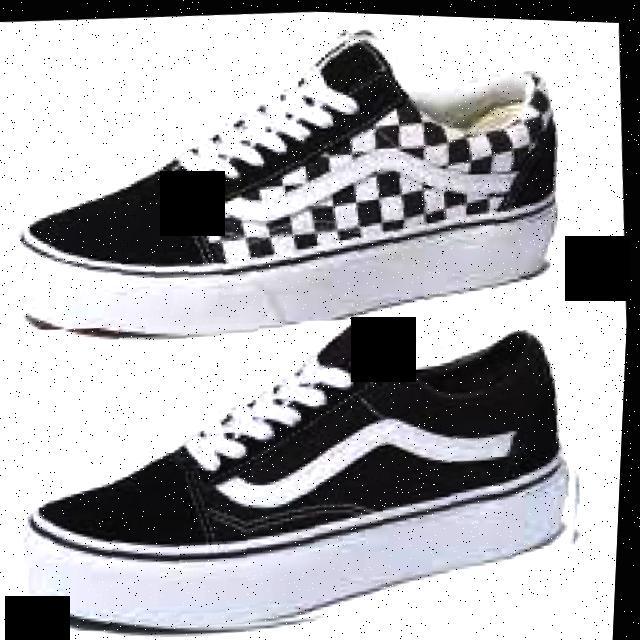shoe: (1, 0, 623, 362), (10, 290, 605, 640)
